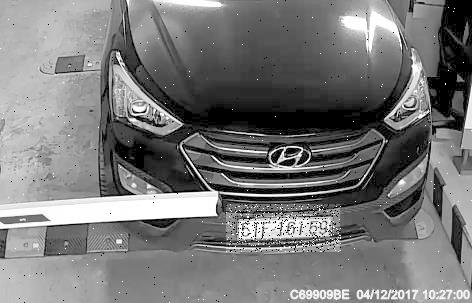License-plate: (228, 205, 343, 253)
